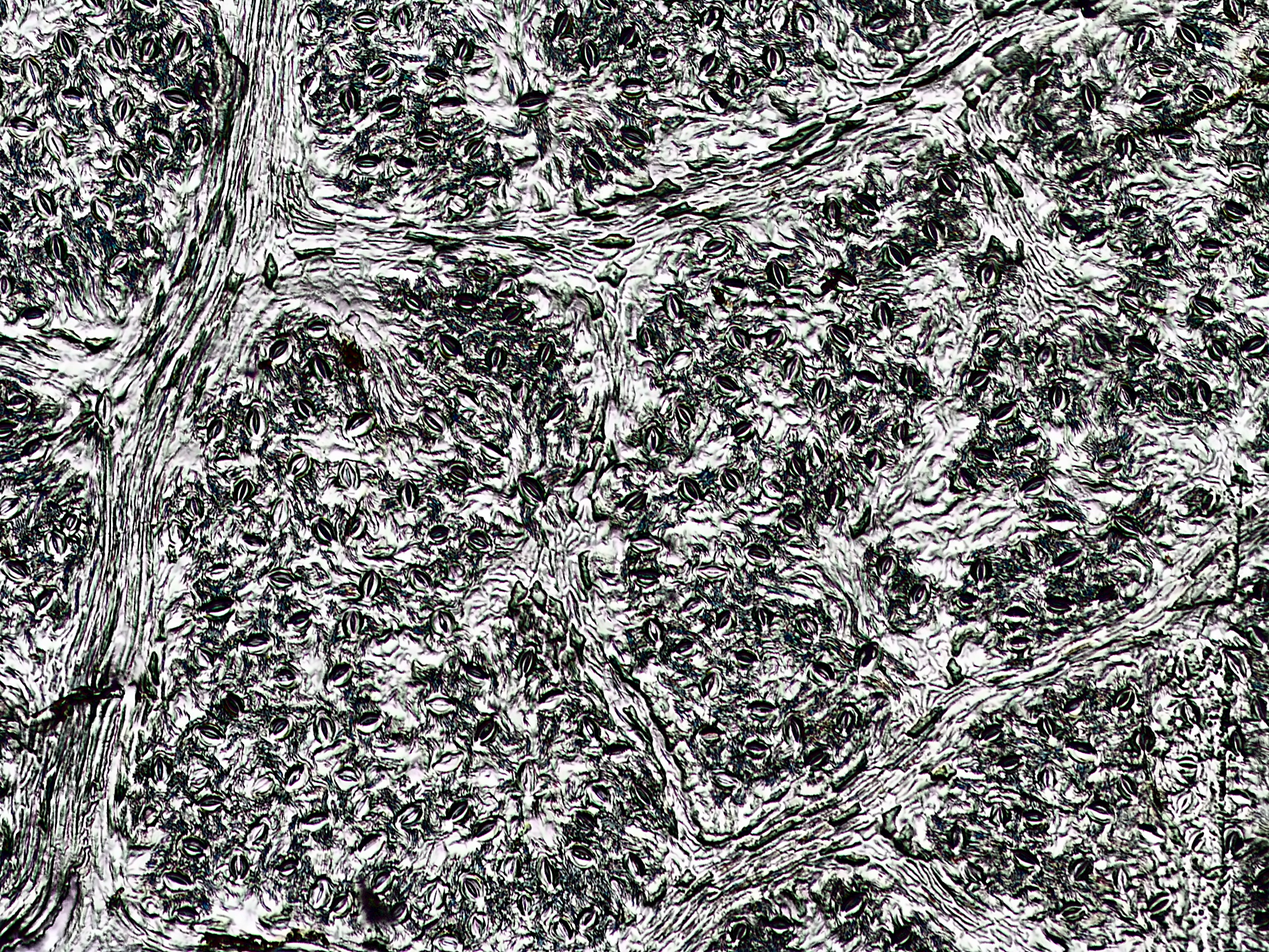stomata: (518, 474, 548, 508), (713, 370, 748, 399), (44, 126, 70, 163), (935, 166, 967, 196), (113, 148, 140, 183), (1222, 648, 1253, 678), (514, 644, 541, 678), (921, 212, 948, 246), (55, 28, 80, 64), (834, 704, 861, 737), (517, 758, 543, 792), (533, 685, 568, 710), (762, 45, 788, 78), (432, 749, 465, 775), (828, 268, 861, 294), (876, 549, 901, 583), (314, 712, 338, 747), (171, 28, 193, 66), (906, 581, 932, 613), (460, 662, 496, 685), (706, 766, 742, 789), (20, 54, 45, 87), (1046, 379, 1071, 412), (1040, 511, 1077, 533), (0, 556, 30, 583), (568, 843, 598, 870), (870, 299, 896, 330), (852, 641, 878, 672), (20, 305, 52, 330), (821, 196, 846, 228), (1111, 512, 1143, 537), (838, 892, 870, 917), (1086, 800, 1118, 825), (94, 390, 115, 428), (198, 596, 236, 617), (617, 126, 650, 150), (244, 406, 268, 439), (239, 633, 275, 655), (663, 347, 693, 373), (1009, 847, 1039, 873), (158, 86, 189, 111), (1219, 198, 1250, 223), (516, 93, 551, 115), (268, 497, 290, 532), (91, 195, 115, 227), (1066, 740, 1098, 764), (1065, 857, 1097, 881), (1078, 225, 1111, 248), (1175, 20, 1203, 47), (178, 835, 209, 859), (426, 692, 457, 716), (1233, 157, 1264, 181), (885, 238, 909, 269), (1231, 721, 1251, 758), (196, 723, 228, 746), (1116, 289, 1148, 312), (977, 258, 1000, 290), (1172, 790, 1199, 817), (431, 608, 457, 636), (1131, 726, 1157, 754), (364, 59, 397, 81), (136, 221, 161, 250), (603, 742, 632, 767), (697, 670, 722, 699), (8, 114, 38, 138), (627, 533, 663, 553), (202, 561, 236, 582), (341, 609, 364, 640), (1090, 452, 1121, 475), (182, 125, 204, 157), (147, 127, 174, 153), (58, 85, 86, 110), (299, 3, 323, 32), (392, 3, 416, 32), (285, 764, 309, 793), (660, 289, 684, 318), (898, 363, 922, 392), (266, 568, 296, 591), (359, 570, 382, 600), (309, 877, 332, 907), (537, 855, 556, 891), (47, 232, 69, 263), (1055, 548, 1086, 570), (1135, 90, 1175, 107), (1043, 592, 1077, 612), (32, 591, 58, 617), (266, 340, 292, 366), (369, 867, 395, 893), (1054, 211, 1080, 237), (804, 746, 830, 772), (284, 453, 311, 478), (113, 91, 134, 123), (357, 832, 381, 860), (1241, 336, 1269, 360), (1179, 699, 1203, 727), (853, 192, 882, 215), (679, 476, 702, 505), (695, 562, 730, 581), (337, 459, 359, 489), (229, 852, 251, 882), (474, 715, 496, 745), (641, 424, 663, 454), (955, 465, 977, 495), (33, 189, 54, 220), (1117, 205, 1148, 226), (767, 259, 788, 290), (811, 378, 832, 409), (327, 662, 353, 687), (267, 715, 293, 740), (546, 401, 571, 427), (1207, 336, 1232, 362), (1146, 893, 1171, 919), (550, 916, 574, 943), (742, 700, 776, 719), (1055, 904, 1089, 923), (399, 802, 422, 830), (459, 873, 482, 901), (151, 754, 171, 786), (350, 9, 379, 31), (697, 723, 726, 745), (20, 440, 50, 461), (162, 871, 192, 892), (1142, 243, 1172, 264), (782, 712, 803, 742), (1222, 826, 1243, 856), (1225, 785, 1255, 806), (782, 352, 801, 385), (582, 149, 606, 175), (726, 68, 750, 94), (346, 413, 372, 437), (231, 478, 255, 504), (355, 710, 381, 734), (1033, 342, 1057, 368), (759, 476, 785, 500), (808, 661, 834, 685), (273, 667, 300, 690), (827, 322, 850, 349), (797, 613, 820, 640), (1116, 378, 1136, 409), (1005, 633, 1036, 653), (423, 882, 445, 910), (631, 781, 653, 809), (1132, 25, 1154, 53), (1019, 474, 1047, 496), (890, 924, 912, 952), (299, 813, 333, 831), (479, 438, 508, 459), (1000, 603, 1032, 622), (702, 90, 727, 114), (697, 53, 721, 78), (312, 519, 337, 543), (587, 782, 611, 807), (764, 326, 788, 351), (1112, 863, 1132, 893), (745, 541, 771, 564), (866, 14, 893, 36), (1224, 0, 1251, 22), (1081, 80, 1099, 113), (947, 822, 965, 855), (435, 95, 466, 114), (195, 794, 226, 813), (331, 889, 350, 920), (1194, 378, 1213, 409), (865, 445, 886, 473), (310, 352, 330, 381), (631, 568, 660, 588), (721, 468, 745, 492), (1017, 431, 1041, 455), (334, 766, 359, 789), (727, 327, 750, 352), (1163, 380, 1185, 406), (745, 737, 771, 759), (617, 79, 644, 100), (1127, 335, 1154, 356), (838, 409, 859, 436), (823, 482, 844, 509), (338, 86, 358, 114), (1093, 329, 1113, 357), (583, 711, 601, 742), (1165, 130, 1196, 148), (421, 409, 444, 433), (1116, 132, 1135, 161), (669, 639, 698, 658), (474, 819, 499, 841), (890, 417, 912, 442), (782, 514, 807, 536), (138, 37, 159, 63), (425, 64, 451, 85), (794, 8, 815, 34), (466, 531, 492, 552), (703, 235, 729, 256), (853, 367, 879, 388), (990, 400, 1016, 421), (376, 98, 403, 118), (552, 12, 572, 39), (399, 480, 417, 510), (189, 766, 216, 786), (734, 649, 764, 667), (1119, 773, 1139, 800), (107, 33, 126, 61), (352, 154, 380, 173), (580, 40, 599, 68), (698, 9, 721, 32), (439, 334, 462, 357), (409, 567, 432, 590), (1190, 80, 1213, 103), (388, 901, 410, 925), (345, 514, 366, 539), (242, 532, 271, 550), (644, 46, 670, 66), (205, 418, 225, 444), (645, 619, 665, 645), (1138, 822, 1164, 842), (486, 345, 505, 372), (352, 794, 371, 821), (624, 851, 643, 878), (1250, 253, 1269, 280), (1031, 110, 1052, 134), (1191, 293, 1215, 314), (300, 72, 320, 97), (415, 130, 440, 150), (769, 7, 789, 32), (1249, 101, 1269, 126), (5, 392, 31, 411), (721, 275, 747, 294), (637, 319, 654, 348), (195, 646, 216, 669), (244, 822, 267, 843), (731, 420, 754, 441), (1111, 687, 1132, 710), (617, 26, 637, 50), (186, 493, 205, 518), (577, 907, 596, 932), (1021, 807, 1046, 826), (502, 856, 520, 882), (971, 557, 989, 583), (294, 398, 315, 420), (278, 855, 299, 877), (253, 776, 275, 797), (1178, 756, 1199, 778), (424, 523, 447, 543), (981, 722, 1004, 742), (285, 612, 312, 629), (449, 465, 476, 482), (998, 754, 1025, 771), (390, 155, 414, 174), (1037, 714, 1056, 738), (1062, 698, 1086, 717), (175, 906, 201, 923), (1148, 59, 1174, 76), (769, 917, 795, 934), (453, 39, 474, 60), (59, 513, 79, 535), (464, 137, 486, 157), (140, 803, 160, 825), (715, 610, 735, 632), (1186, 831, 1206, 853), (0, 495, 19, 518), (46, 533, 65, 556), (305, 321, 328, 340), (575, 811, 598, 830), (967, 862, 986, 885), (536, 341, 554, 365), (675, 402, 693, 426), (973, 447, 997, 465), (130, 0, 160, 14), (1059, 133, 1080, 153), (993, 802, 1008, 830), (109, 252, 128, 274), (449, 800, 468, 822), (680, 598, 706, 614), (468, 913, 484, 938), (982, 327, 1003, 346), (225, 694, 243, 716), (965, 369, 988, 386), (435, 937, 461, 952), (954, 592, 978, 608), (1038, 767, 1056, 788), (1202, 237, 1224, 254), (754, 605, 770, 628), (1019, 537, 1035, 560), (518, 892, 533, 916), (470, 264, 491, 281), (456, 294, 478, 310), (740, 0, 761, 16), (82, 0, 106, 13), (448, 196, 466, 213), (403, 293, 421, 310), (502, 304, 519, 322), (406, 348, 422, 367), (0, 276, 13, 299), (0, 420, 16, 438), (475, 175, 499, 187), (790, 454, 803, 476), (731, 922, 745, 942), (1255, 46, 1269, 64), (0, 212, 11, 234), (595, 0, 613, 12)
